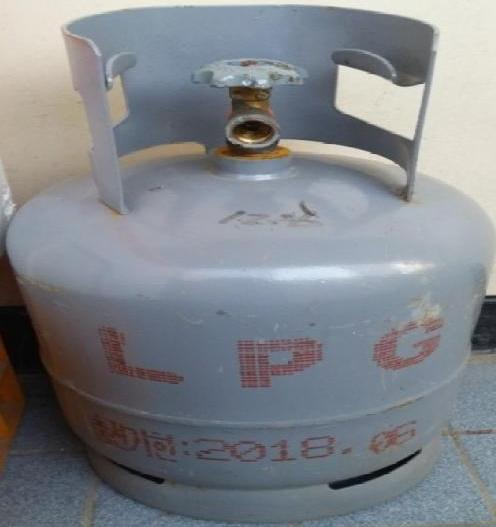cylinder: (1, 1, 496, 527)
